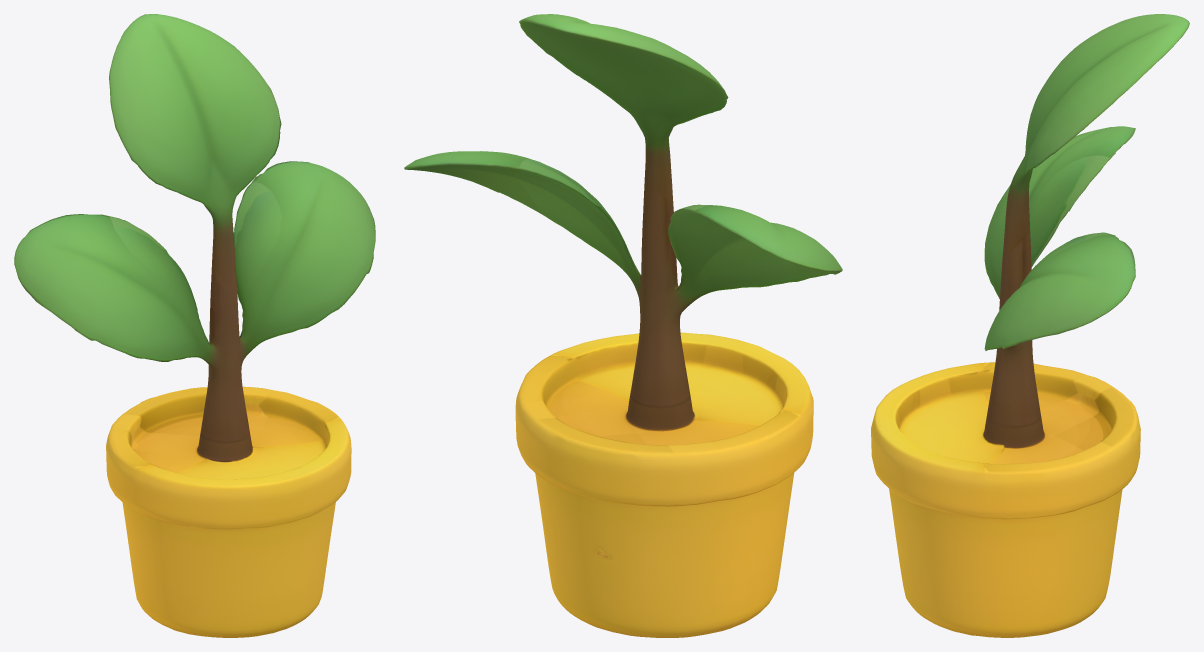
The model's file is celo.glb.
The picture shows the model from 3 angles, left to right: view 1: azimuth 30°, elevation 25°; view 2: azimuth 150°, elevation 25°; view 3: azimuth 270°, elevation 25°; orthographic projection. The views are drawn at different scales.
Parts seen in each view (by area): view 1: model; view 2: model; view 3: model.
Boxes of the visible parts, box(x1,y1,x2,y2) form: model: box(14, 14, 375, 637); model: box(404, 14, 842, 637); model: box(871, 14, 1189, 637).
Size of the model in its own units: 1.29 by 1.9 by 0.9499.
Materials: 1 (1 with a texture image).
